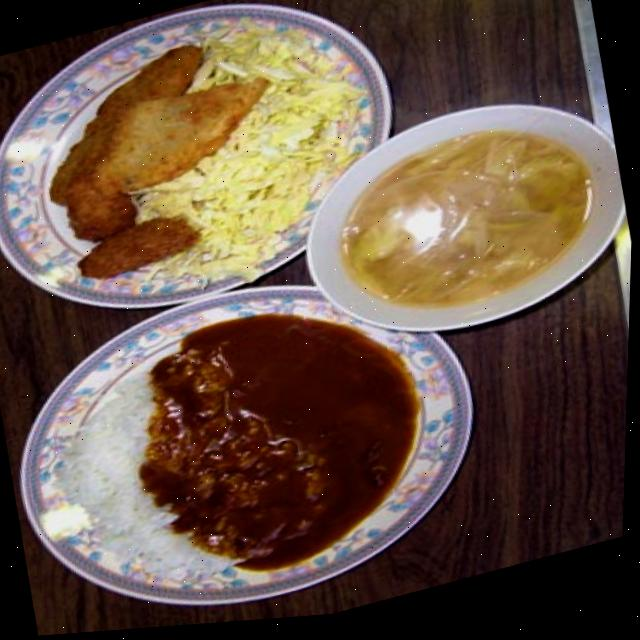炸货点心: (1, 9, 317, 333)
熟制海鲜: (1, 9, 317, 333)
